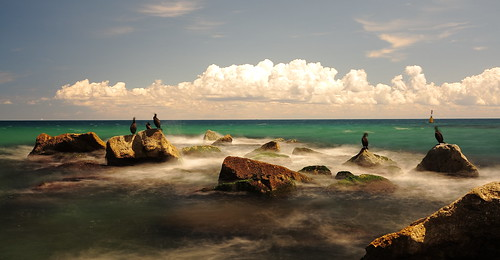animal: (125, 114, 140, 137), (148, 109, 163, 132), (431, 124, 446, 147), (357, 130, 372, 153)
rocks: (40, 129, 480, 203)
sea: (1, 121, 487, 156)
sky: (3, 1, 500, 115)
